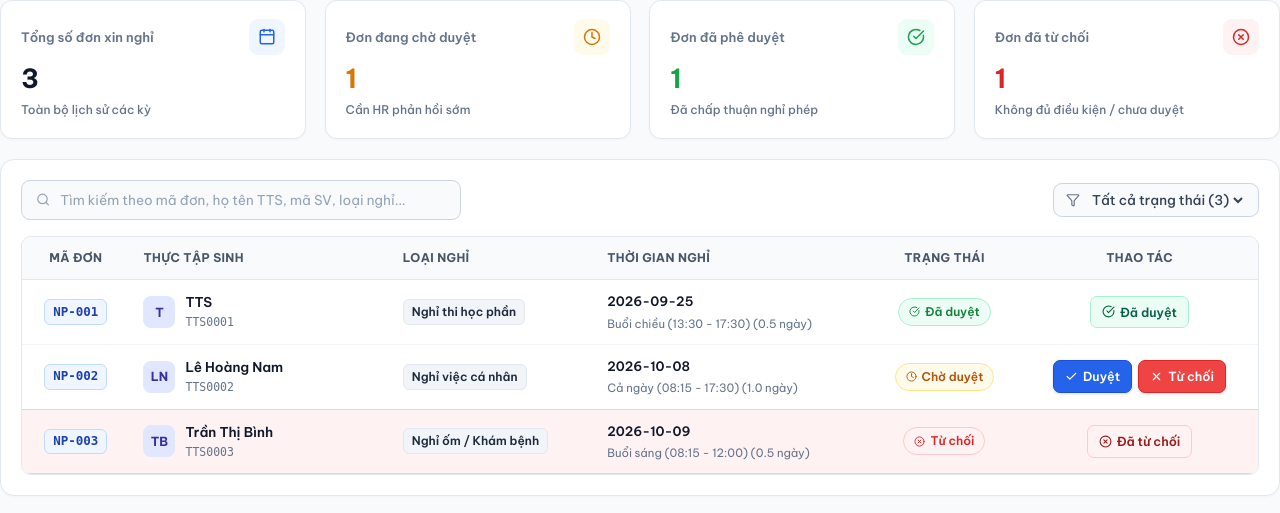
LeaveRequestManagement Test Suite (HR Leave Approval) › 4. Search & Filter › tìm kiếm theo tên hoặc mã sinh viên qua Search Input
This screenshot has width=1280, height=513.
Expected: the text "NP-001" is shown, [44,299,107,325]
Type "Lê Hoàng Nam" into the field with placeholder "Tìm kiếm theo mã đơn, họ tên TTS, mã SV, loại nghỉ...".
click(252, 200); type("Lê Hoàng Nam")  # box [58,189,446,211]
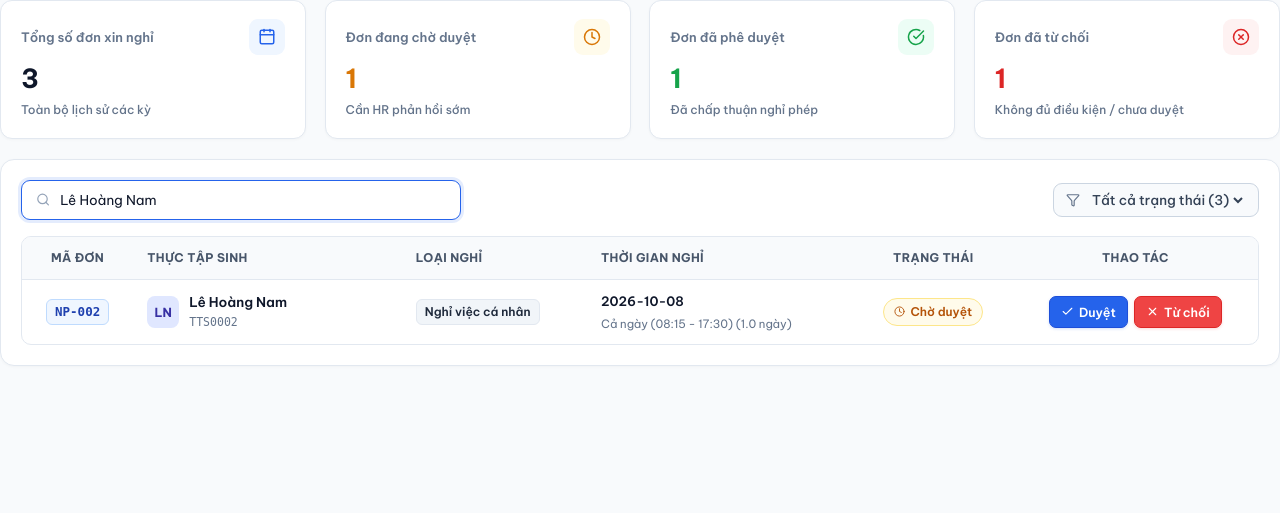
Expected: the text "NP-002" is shown, [46,299,109,325]
Expected: the text "NP-001" is gone
Expected: the text "NP-003" is gone
